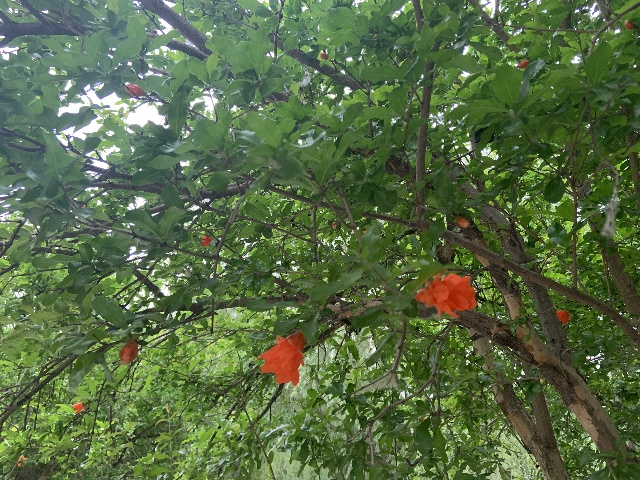bud: (119, 340, 137, 365), (124, 83, 145, 96), (455, 215, 469, 227), (517, 59, 529, 69), (623, 20, 634, 29), (320, 53, 327, 59), (332, 222, 337, 228)
flower: (414, 272, 476, 319), (257, 330, 306, 386), (556, 309, 571, 324), (71, 402, 86, 413), (16, 454, 27, 466), (200, 236, 212, 246)
